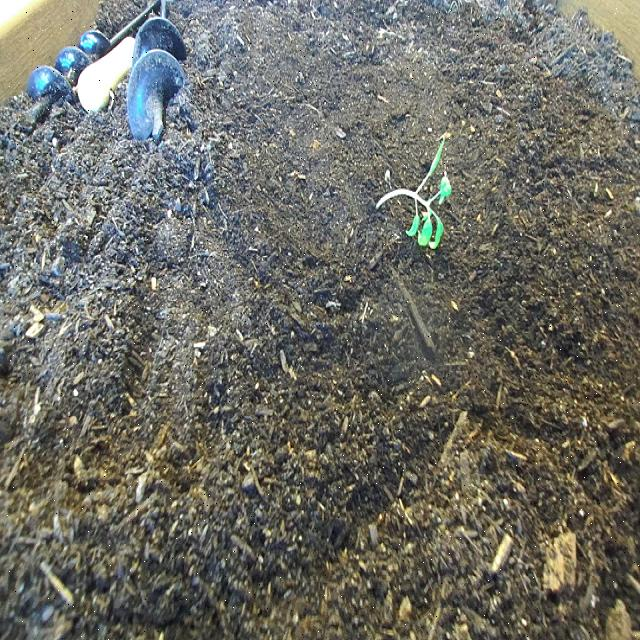Unhealthy: (370, 130, 461, 266)
